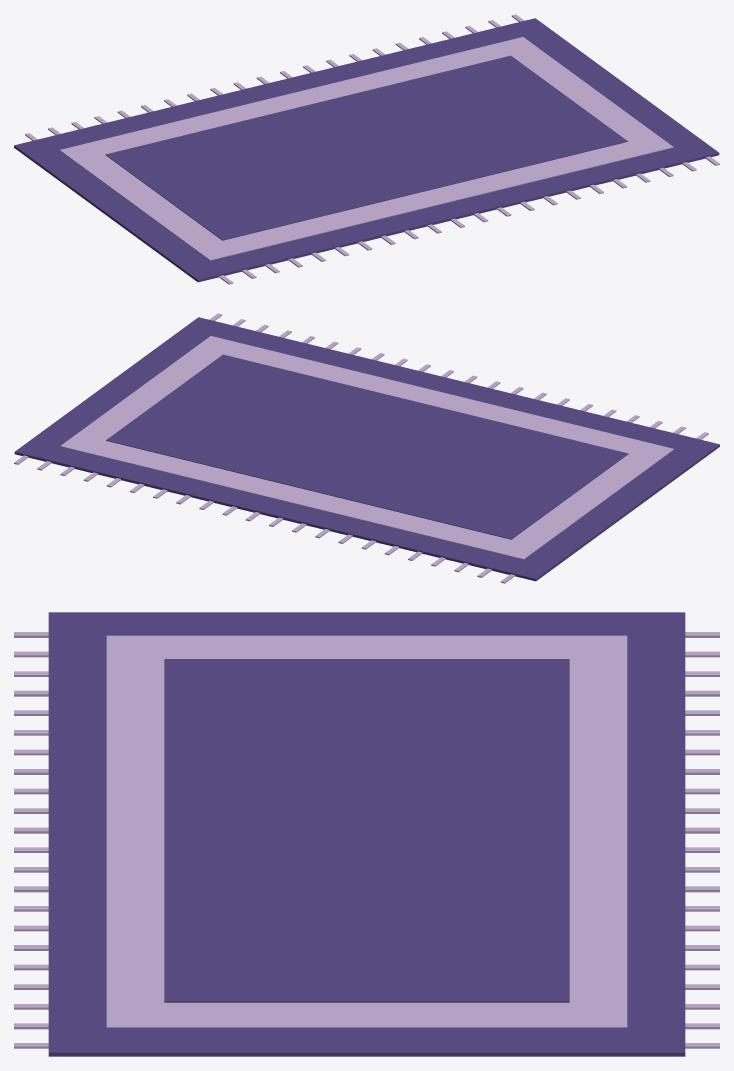
File: rugBedroom.fbx
3 views of the same model, one above another, from view 1: azimuth 30°, elevation 25°; view 2: azimuth 150°, elevation 25°; view 3: azimuth 270°, elevation 25° (orthographic). The views are drawn at different scales.
Parts seen in each view (by area): view 1: rugBedroom; view 2: rugBedroom; view 3: rugBedroom.
Part boxes in pixels (<box>): rugBedroom: <box>14,14,719,284</box>; rugBedroom: <box>14,313,719,583</box>; rugBedroom: <box>14,612,719,1056</box>.
Size of the model in its own units: 7.2 by 0.048 by 4.88.
